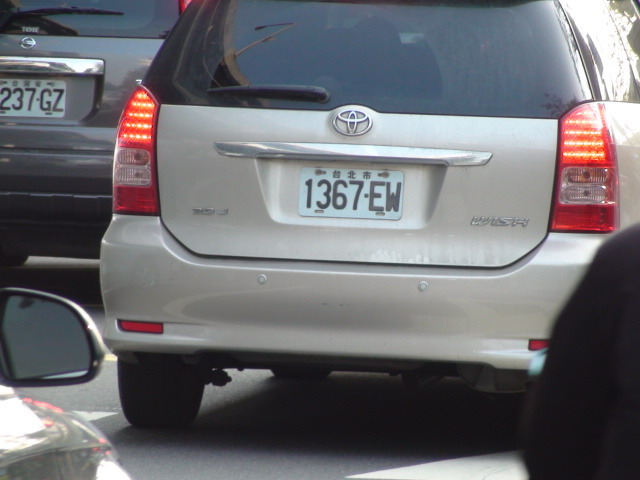plate: (299, 166, 403, 223), (0, 77, 68, 119)
